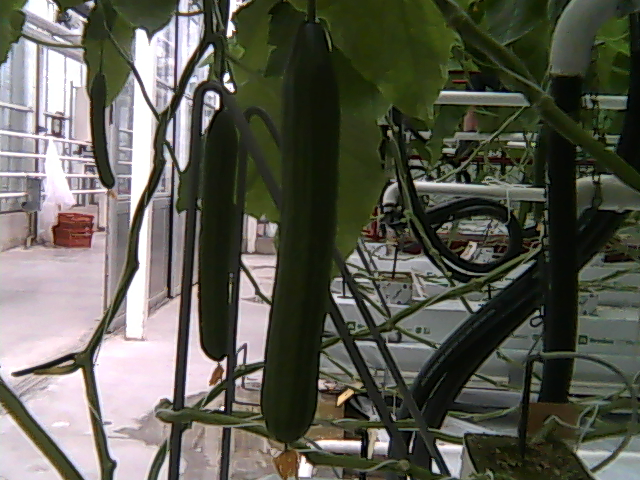concombre: (256, 7, 345, 480)
